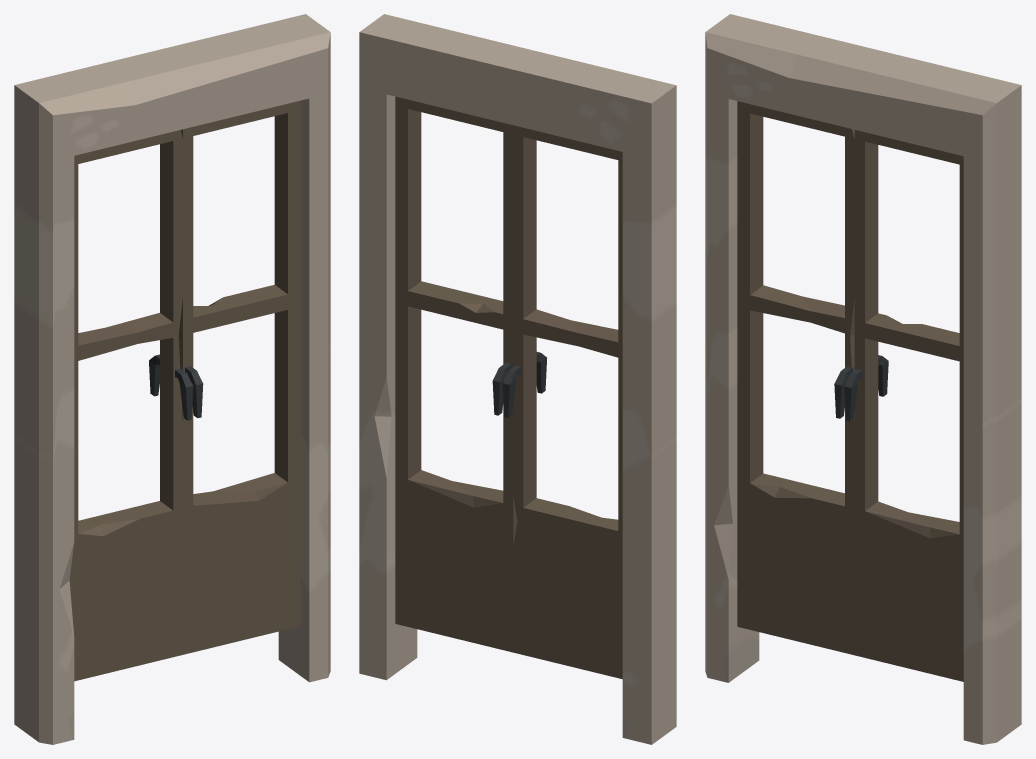
File: SM_Bld_Shop_Door_01.fbx
The picture shows the model from 3 angles, left to right: view 1: azimuth 30°, elevation 25°; view 2: azimuth 150°, elevation 25°; view 3: azimuth 330°, elevation 25°; orthographic projection.
Visible parts, largest first — view 1: SM_Bld_Shop_Door_01, SM_Bld_Shop_Door_01_R, SM_Bld_Shop_Door_01_L; view 2: SM_Bld_Shop_Door_01, SM_Bld_Shop_Door_01_R, SM_Bld_Shop_Door_01_L; view 3: SM_Bld_Shop_Door_01, SM_Bld_Shop_Door_01_L, SM_Bld_Shop_Door_01_R.
Part boxes in pixels (x1,y1,x2,y2): SM_Bld_Shop_Door_01: [14, 14, 330, 744]; SM_Bld_Shop_Door_01_R: [179, 100, 300, 654]; SM_Bld_Shop_Door_01_L: [69, 130, 193, 681]; SM_Bld_Shop_Door_01: [359, 14, 676, 744]; SM_Bld_Shop_Door_01_R: [395, 96, 517, 652]; SM_Bld_Shop_Door_01_L: [502, 125, 622, 679]; SM_Bld_Shop_Door_01: [705, 14, 1021, 744]; SM_Bld_Shop_Door_01_L: [737, 101, 854, 655]; SM_Bld_Shop_Door_01_R: [844, 130, 963, 681].
Size of the model in its own units: 127 by 266 by 28.05.
